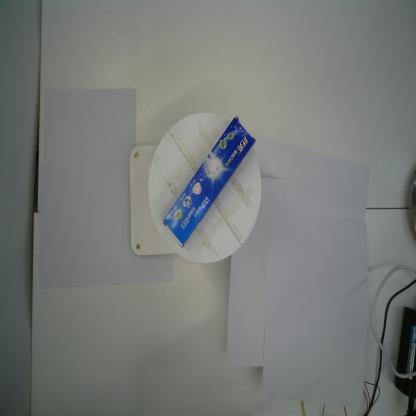Personal Hygiene: (160, 112, 256, 250)
